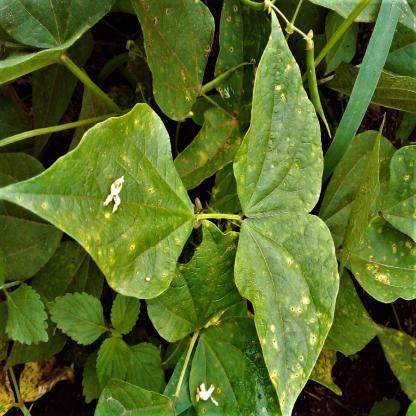Beans_Rust: (16, 110, 188, 290), (233, 216, 338, 410), (231, 11, 320, 209), (189, 302, 295, 416), (136, 0, 220, 118), (347, 209, 416, 303), (325, 132, 381, 234), (382, 137, 416, 252)
